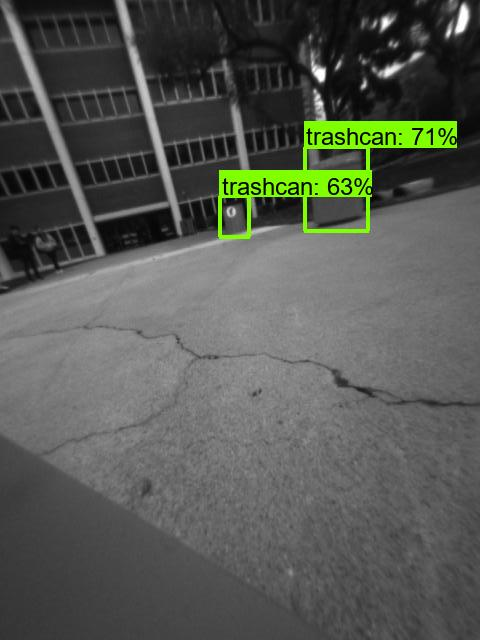trashcan: (304, 146, 367, 230), (220, 197, 250, 234)
